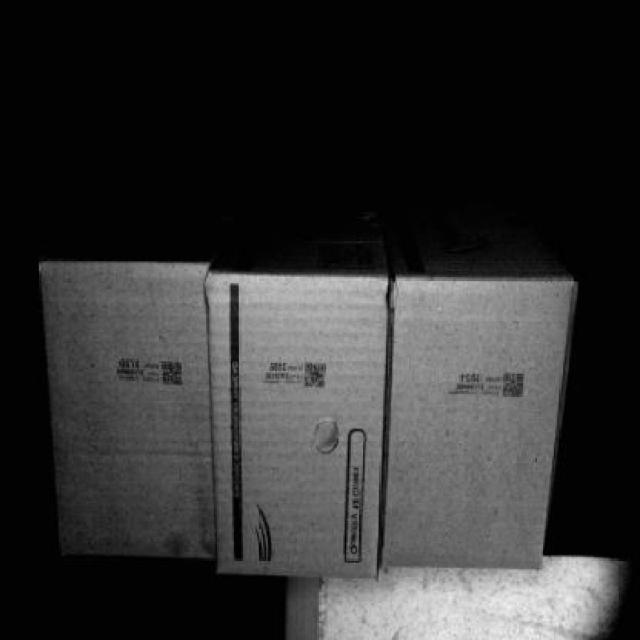cardboxes: (381, 288, 568, 564), (216, 277, 384, 578), (46, 269, 214, 557)
